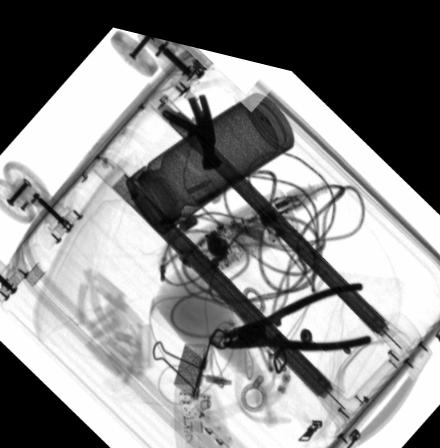Hammer: (158, 82, 222, 159)
Pliers: (222, 262, 371, 336)
